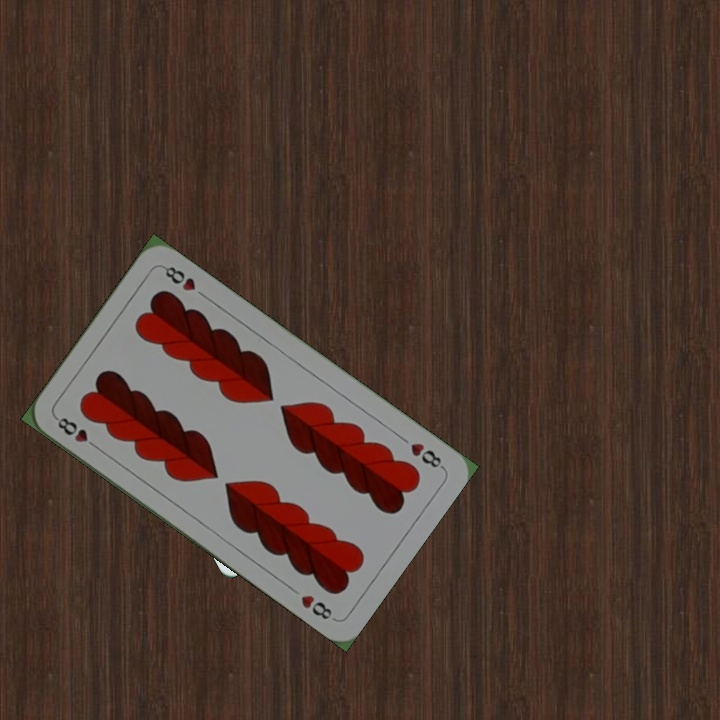H8: (52, 413, 103, 453), (406, 438, 446, 472)
